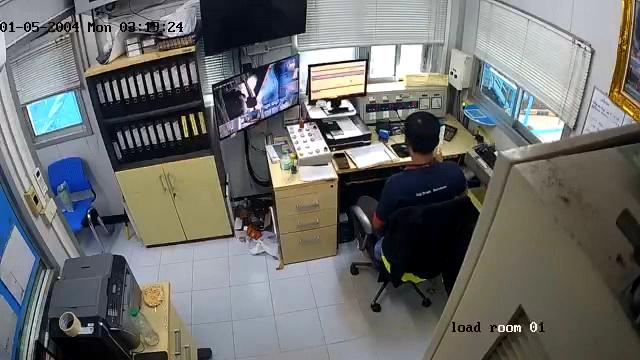Head: (404, 111, 440, 156)
People: (375, 111, 465, 236)
Phone: (333, 153, 351, 169)
